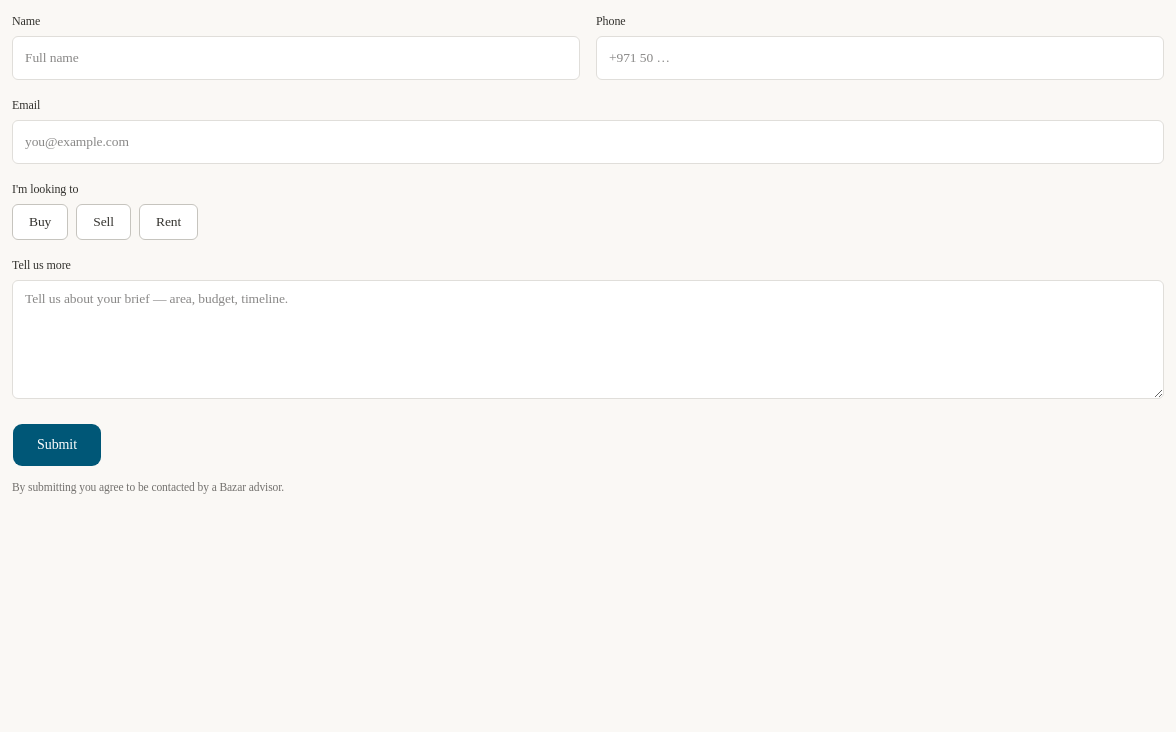
Test: FormRenderer when the server action fails › says so, instead of doing nothing, when both ways fail
This screenshot has width=1176, height=732.
Type "Test Visitor" into the field labelled "Name" at (296, 58), box [12, 36, 580, 80]
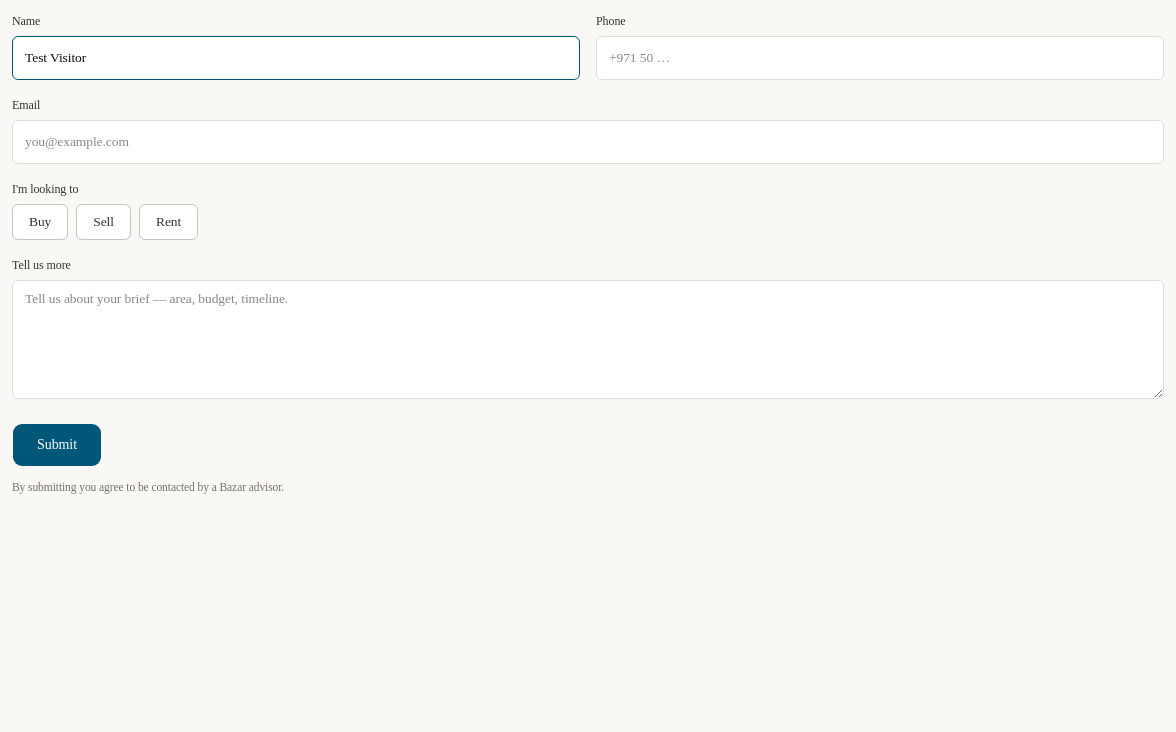
Type "501234567" into the field labelled "Phone" at (880, 58), box [596, 36, 1164, 80]
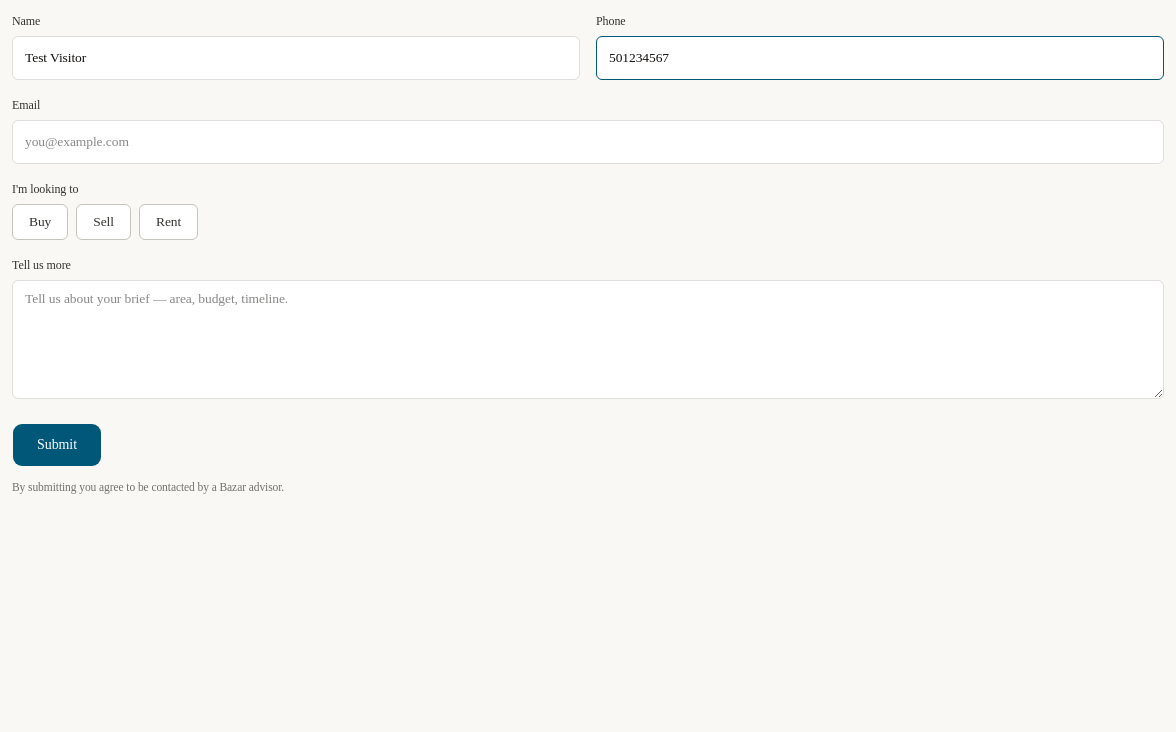
Type "visitor@example.com" into the field labelled "Email" at (588, 142), box [12, 120, 1164, 164]
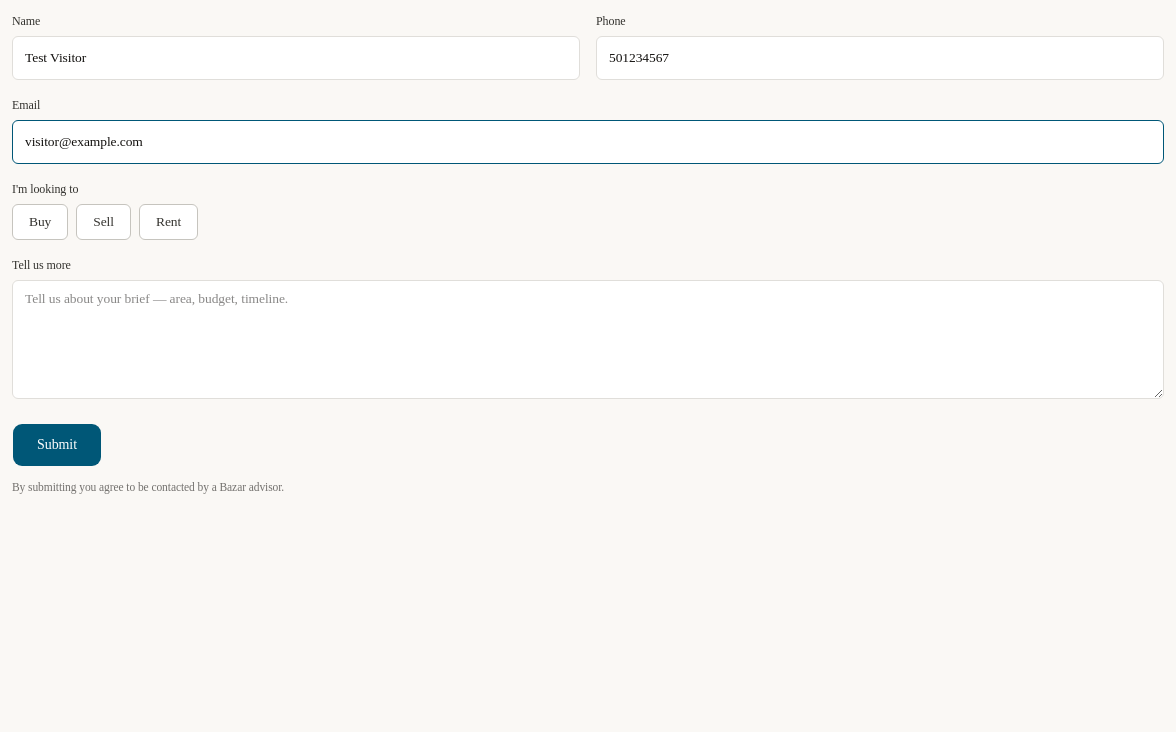
Type "Test Visitor" into the text box labelled "Tell us more" at (588, 340), box [12, 280, 1164, 399]
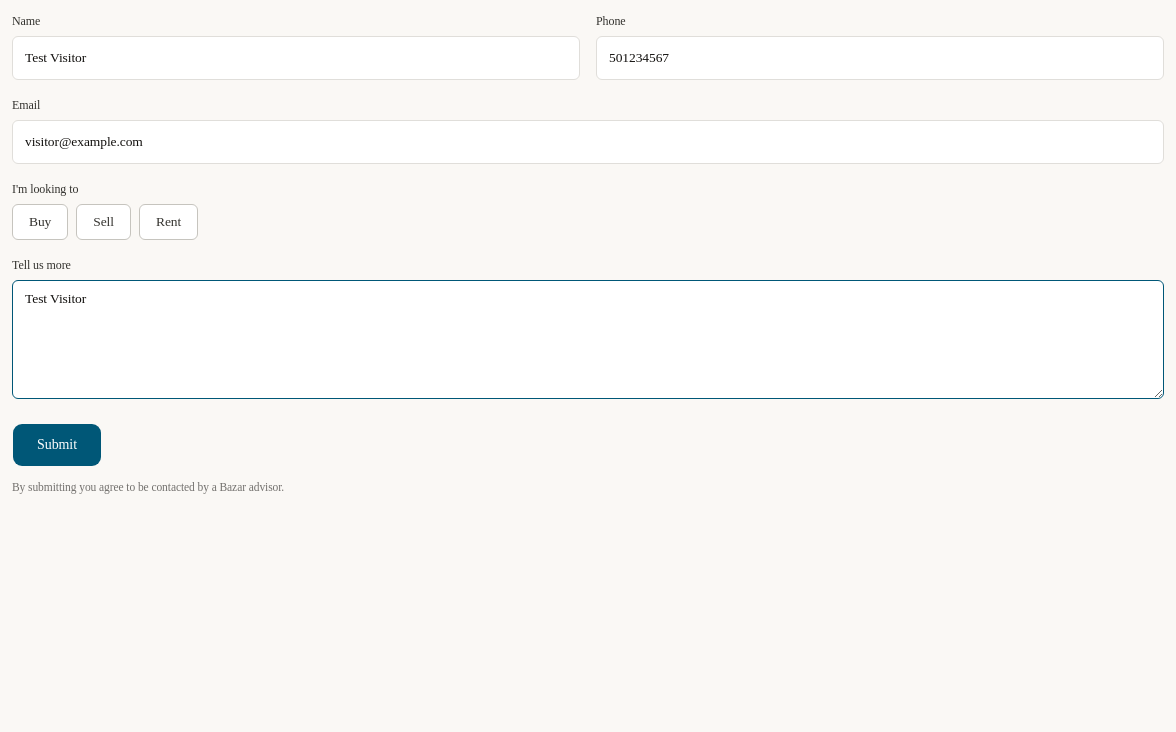
Click the submit button at (57, 445), box [12, 423, 102, 467]
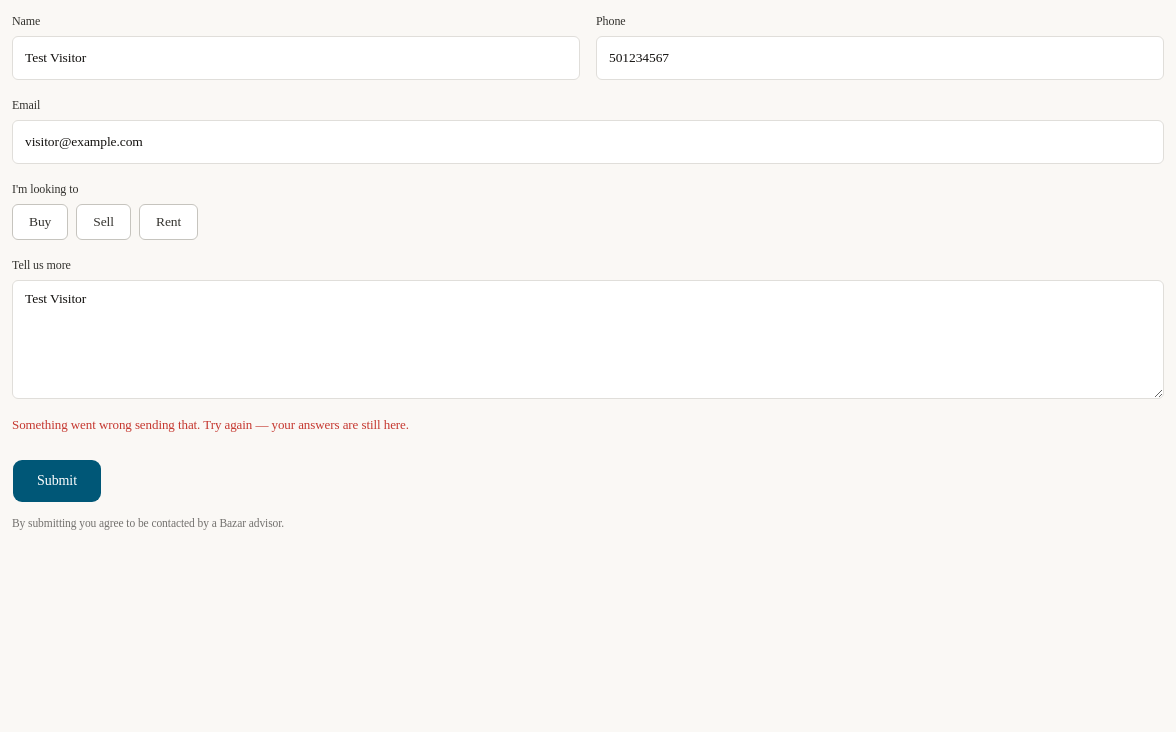
Check: the text "Something went wrong sending that. Try again — your answers are still here." is shown, box [12, 417, 409, 432]
